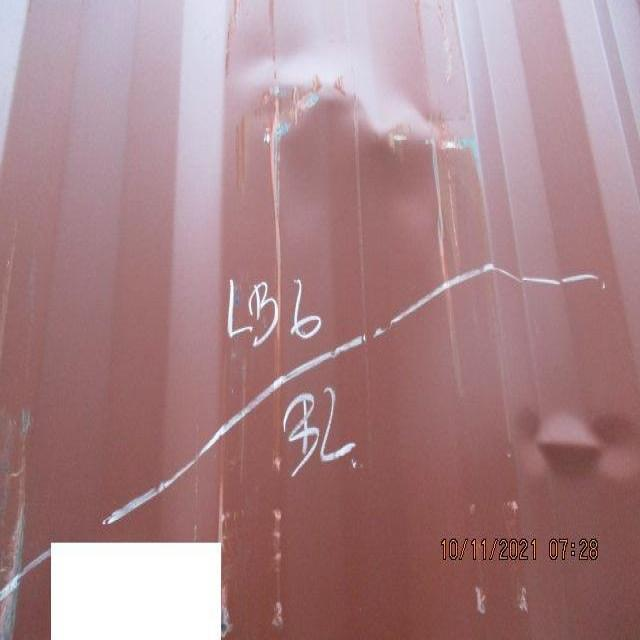dent: (165, 40, 625, 298), (502, 393, 638, 504)
